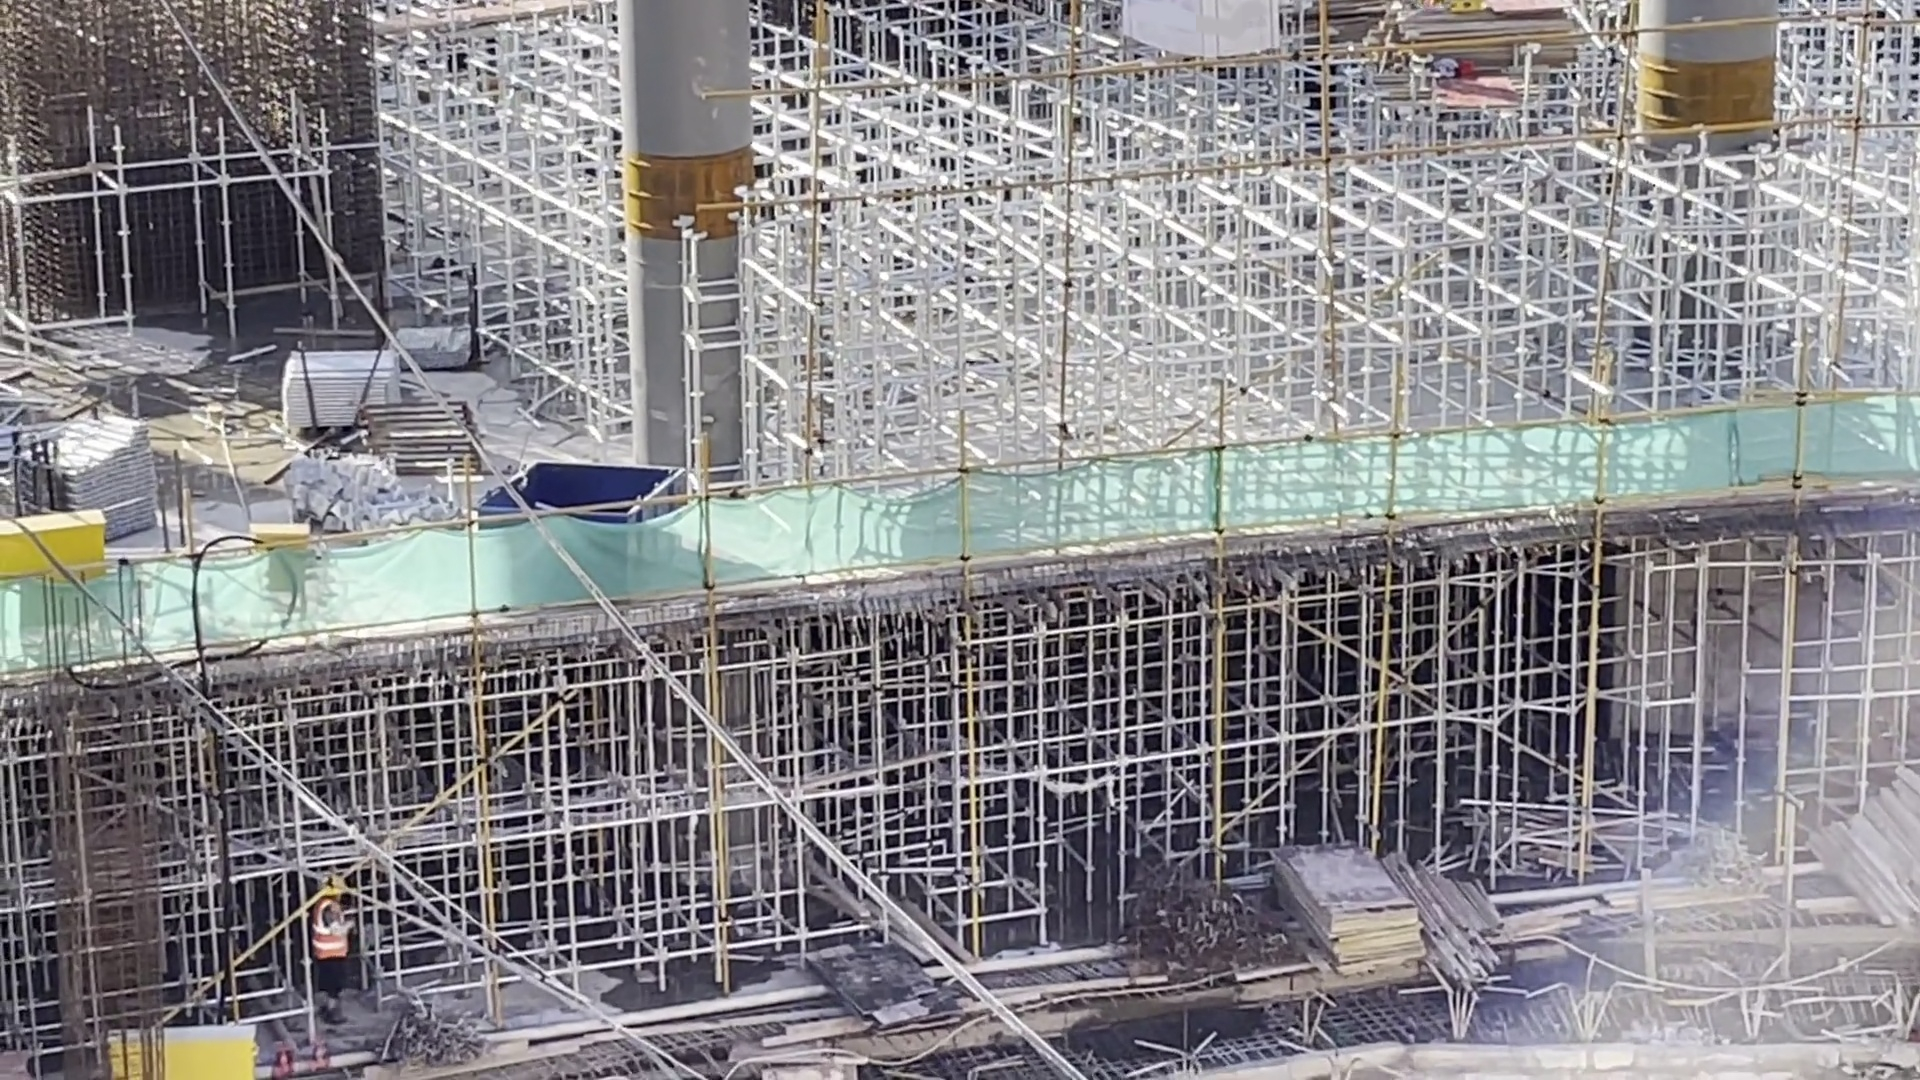board: (1278, 811, 1438, 989), (1408, 1, 1584, 67)
ebox: (19, 502, 104, 617), (81, 1026, 231, 1080), (268, 546, 316, 597)
helmet: (321, 876, 346, 891)
hopper: (494, 456, 704, 582)
person: (304, 861, 348, 1001)
scaffold: (33, 394, 194, 541), (274, 346, 418, 436)
vest: (308, 904, 353, 954)
wood: (1813, 806, 1920, 936)
